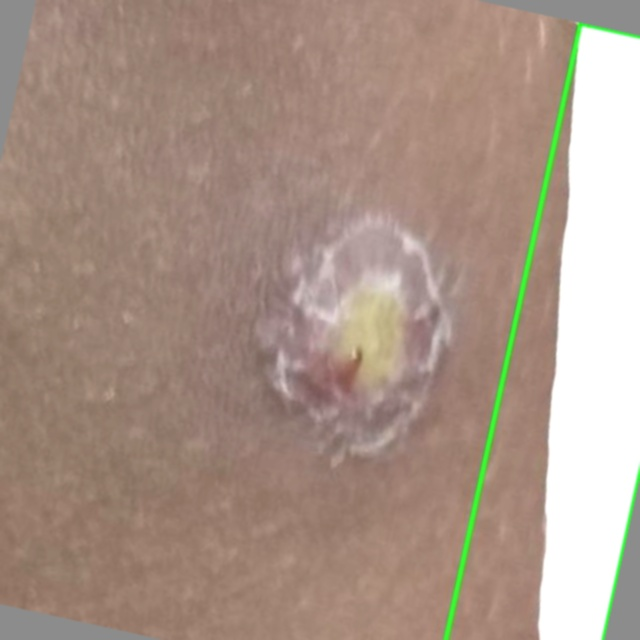Scabies: (446, 23, 639, 639)
